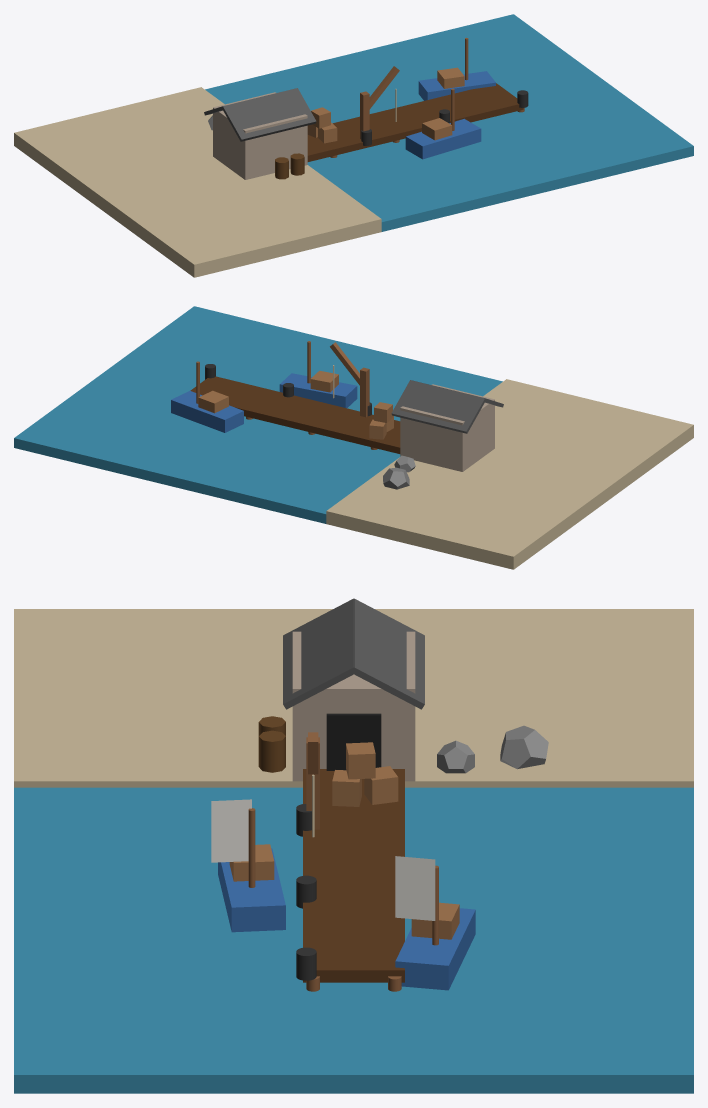
Rendered from harbor.glb.
3 views of the same model, one above another, from view 1: azimuth 30°, elevation 25°; view 2: azimuth 150°, elevation 25°; view 3: azimuth 270°, elevation 25° (orthographic). The views are drawn at different scales.
Visible parts, largest first — view 1: Water, Shore, Pier, DockBuilding, RoofFront, Boat_art2h_Hull, Boat_xct2f_Hull, Boat_art2h_Cabin, Boat_xct2f_Cabin; view 2: Water, Shore, Pier, DockBuilding, RoofBack, Boat_xct2f_Hull, Boat_art2h_Hull, Boat_xct2f_Cabin, Rock_2, Boat_art2h_Cabin, CranePost; view 3: Water, Shore, Pier, DockBuilding, RoofFront, RoofBack, Boat_xct2f_Hull, Boat_art2h_Hull, Boat_xct2f_Sail, Doorway, Boat_art2h_Sail, Rock_2 (+7 smaller).
Boxes of the visible parts, x1,y1,x2,y2 form: Water: (205,14,693,231); Shore: (14,87,381,277); Pier: (307,83,523,161); DockBuilding: (213,92,307,179); RoofFront: (222,88,316,141); Boat_art2h_Hull: (405,118,481,159); Boat_xct2f_Hull: (418,71,495,100); Boat_art2h_Cabin: (422,118,452,140); Boat_xct2f_Cabin: (437,67,464,88); Water: (14,306,502,523); Shore: (326,379,693,569); Pier: (190,376,400,453); DockBuilding: (400,384,494,471); RoofBack: (391,380,485,433); Boat_xct2f_Hull: (171,391,243,432); Boat_art2h_Hull: (279,373,357,408); Boat_xct2f_Cabin: (198,390,228,413); Rock_2: (383,467,409,489); Boat_art2h_Cabin: (310,370,338,392); CranePost: (360,367,369,417); Water: (14,787,693,1093); Shore: (14,609,693,787); Pier: (303,769,404,982); DockBuilding: (292,631,415,781); RoofFront: (283,598,356,709); RoofBack: (351,598,424,709); Boat_xct2f_Hull: (395,908,475,990); Boat_art2h_Hull: (218,848,285,932); Boat_xct2f_Sail: (395,856,435,920); Doorway: (326,713,381,770); Boat_art2h_Sail: (211,799,251,862); Rock_2: (500,725,548,769).
Bounding box in the file's own units: 16 × 3.08 × 10.
